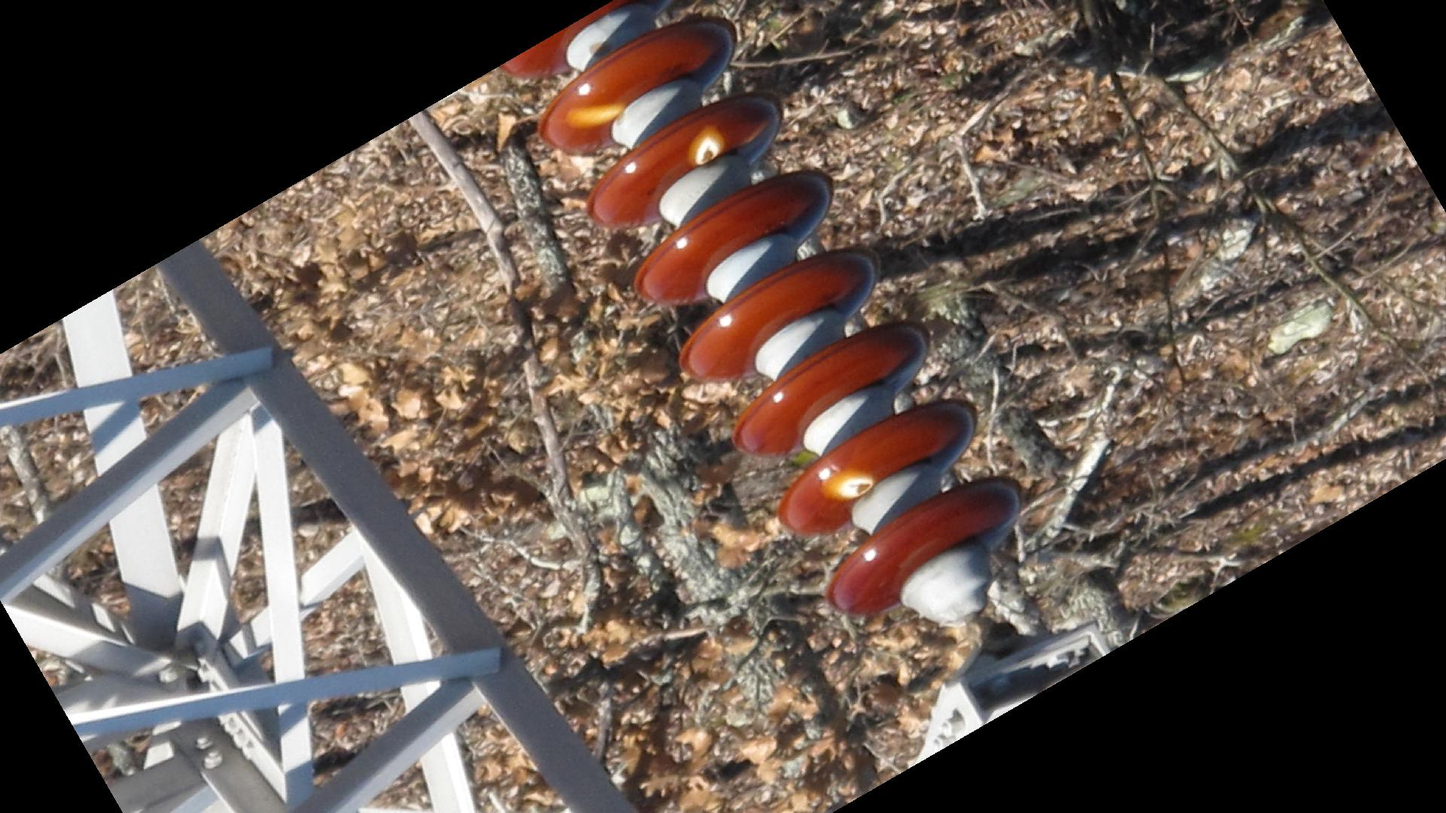insulator: (495, 1, 1032, 618)
insulator_flashover: (817, 467, 877, 503), (562, 98, 625, 132), (690, 126, 725, 169)
